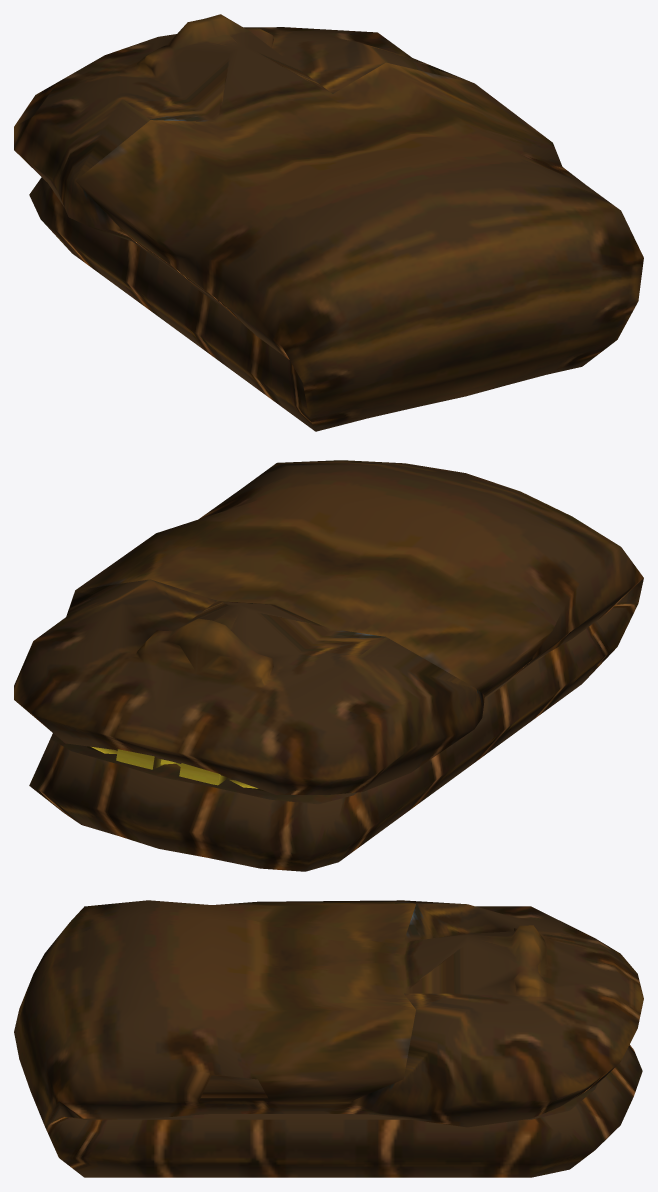
The model's file is WALLET_MODEL.fbx.
The picture shows the model from 3 angles, top to bottom: view 1: azimuth 30°, elevation 25°; view 2: azimuth 150°, elevation 25°; view 3: azimuth 270°, elevation 25°; orthographic projection. The views are drawn at different scales.
Visible parts, largest first — view 1: WALLET_MODEL; view 2: WALLET_MODEL; view 3: WALLET_MODEL.
Boxes of the visible parts, x1,y1,x2,y2 form: WALLET_MODEL: [14, 14, 643, 431]; WALLET_MODEL: [14, 460, 643, 871]; WALLET_MODEL: [14, 900, 643, 1177].
Size of the model in its own units: 7216 by 3474 by 10574.
Materials: 1 (1 with a texture image).
